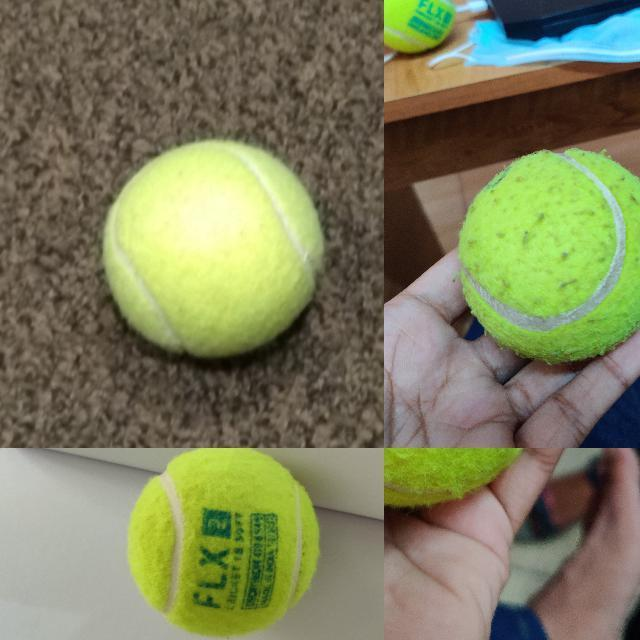tennis-ball: (103, 140, 325, 359), (458, 148, 639, 362), (125, 448, 322, 639), (384, 448, 558, 505), (384, 0, 455, 55)
